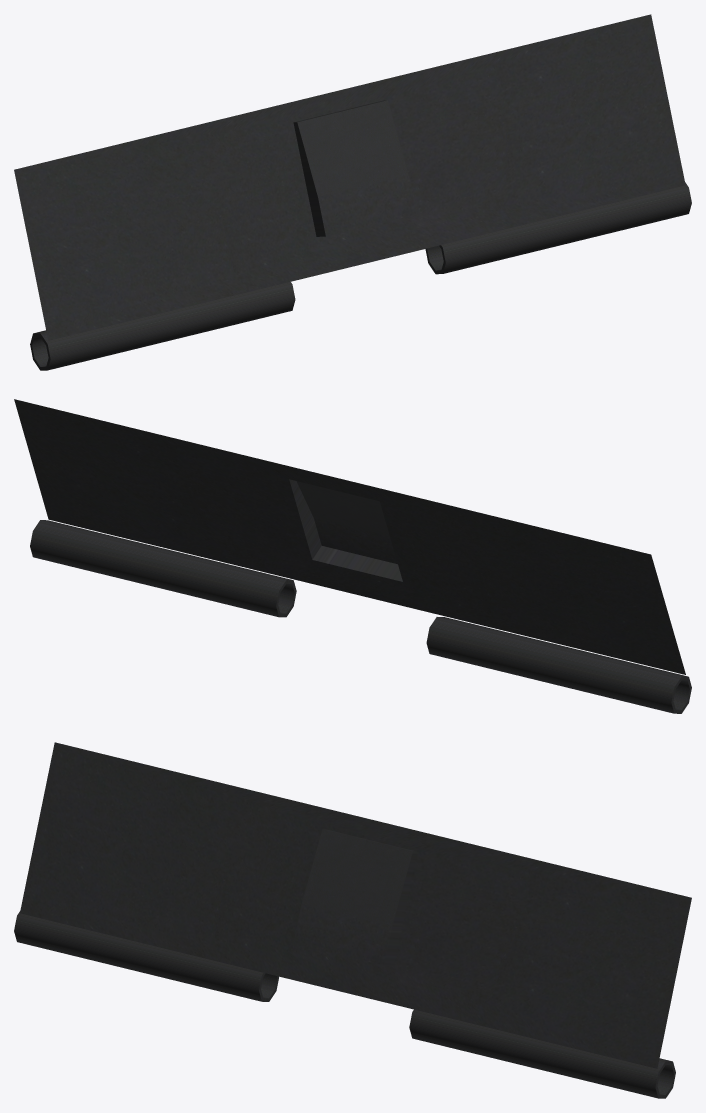
File: Ejection_Port_Cover.dae
3 renders of one model, top to bottom at view 1: azimuth 30°, elevation 25°; view 2: azimuth 150°, elevation 25°; view 3: azimuth 330°, elevation 25°, orthographic.
Visible parts, largest first — view 1: Ejection_Port_Cover; view 2: Ejection_Port_Cover; view 3: Ejection_Port_Cover.
Boxes of the visible parts, x1,y1,x2,y2 form: Ejection_Port_Cover: (14, 14, 691, 370); Ejection_Port_Cover: (14, 399, 691, 713); Ejection_Port_Cover: (14, 742, 691, 1098).
Bounding box in the file's own units: 0.0779 × 0.00814 × 0.0208.
1 material, 1 textured.
